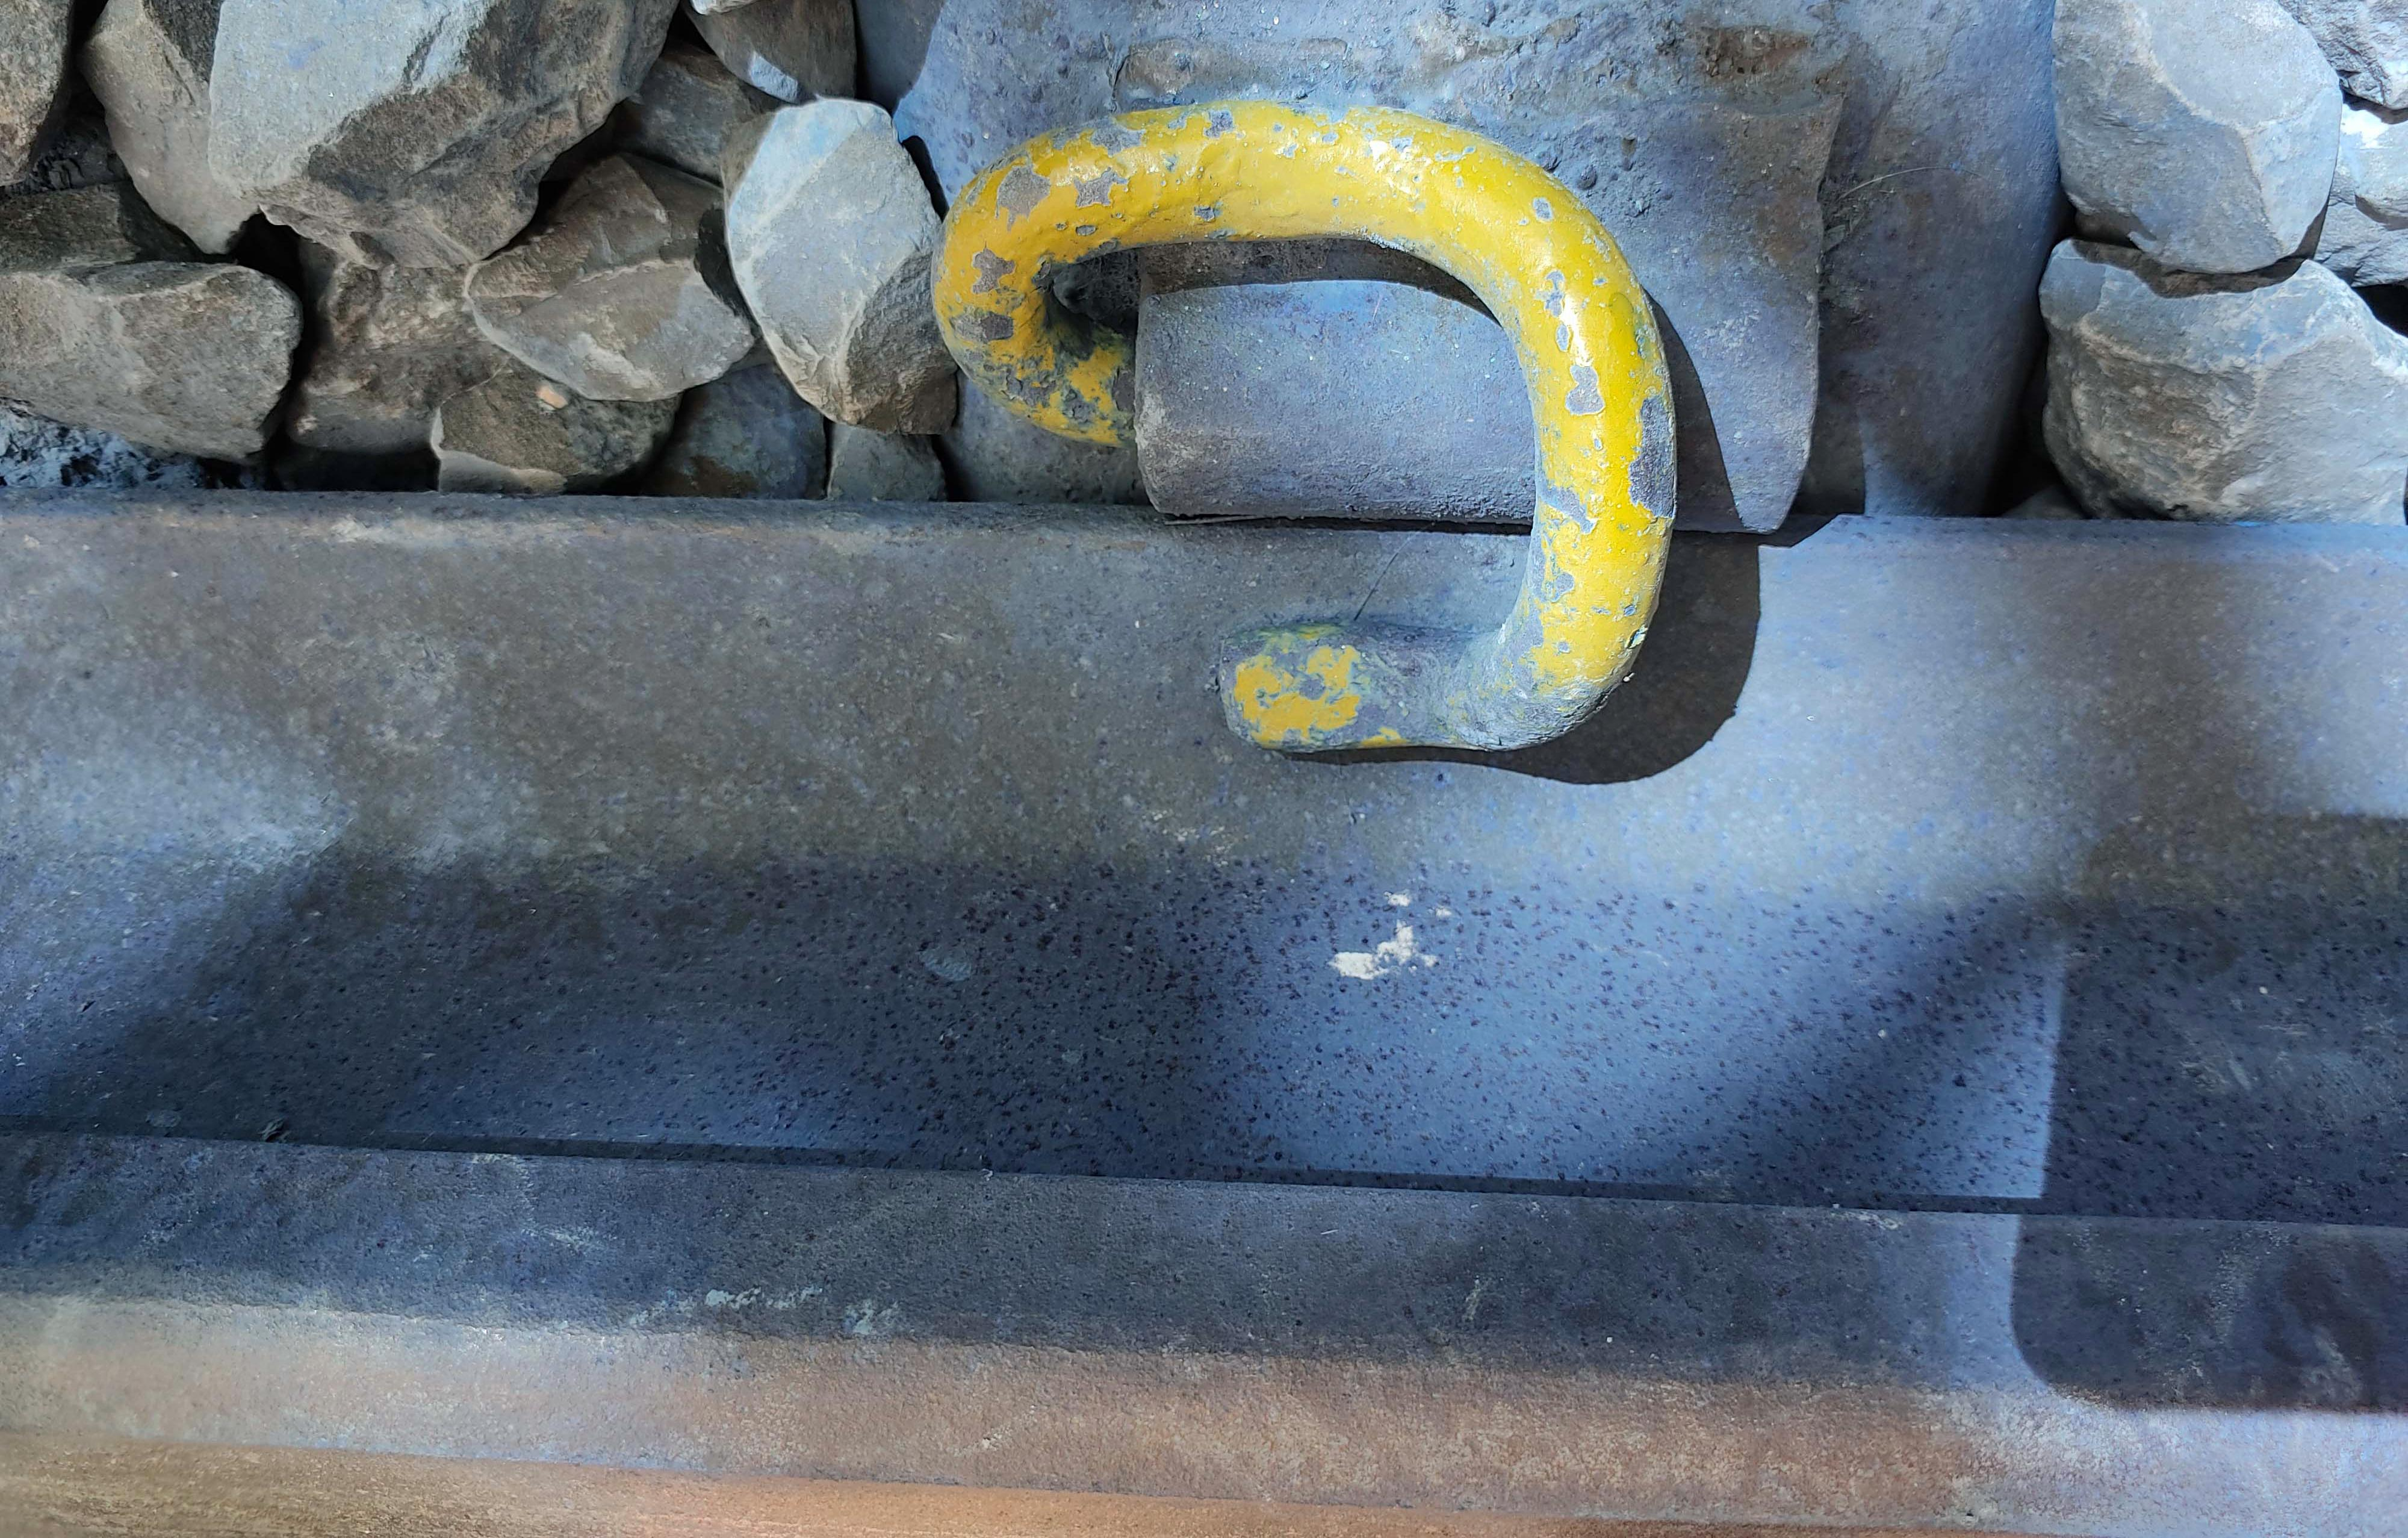error1: (902, 91, 1739, 802)
